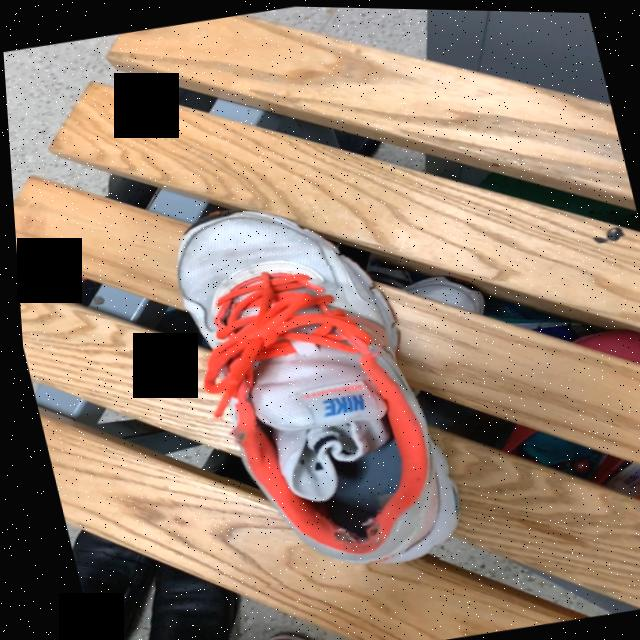shoe: (171, 209, 451, 563)
